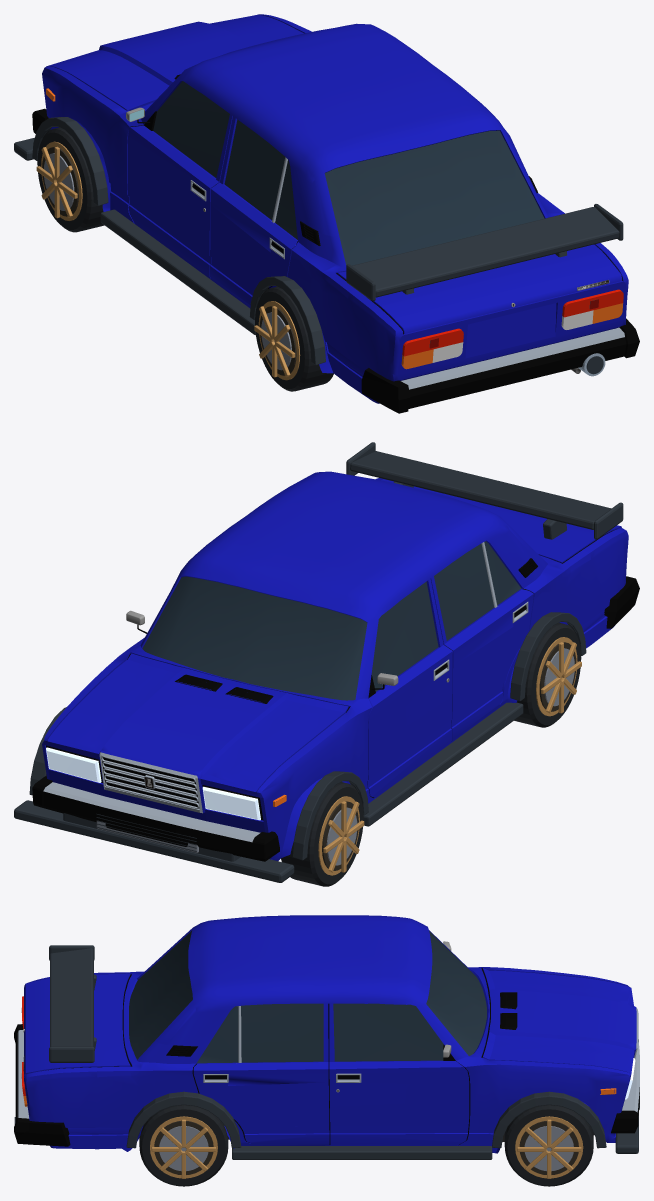
The model's file is vaz2107turbo.glb.
3 views of the same model, one above another, from view 1: azimuth 30°, elevation 25°; view 2: azimuth 150°, elevation 25°; view 3: azimuth 270°, elevation 25° (orthographic). The views are drawn at different scales.
Parts seen in each view (by area): view 1: Lada 2107 Turbo, rear_spoiler, Rim and tire.001, Rim and tire; view 2: Lada 2107 Turbo, rear_spoiler, Rim and tire, Rim and tire.001; view 3: Lada 2107 Turbo, Rim and tire.002, Rim and tire.003, rear_spoiler.
Part boxes in pixels (left/top/right/bottom): Lada 2107 Turbo: left=14, top=14, right=639, bottom=413; rear_spoiler: left=346, top=204, right=623, bottom=301; Rim and tire.001: left=254, top=286, right=333, bottom=391; Rim and tire: left=36, top=127, right=104, bottom=232; Lada 2107 Turbo: left=14, top=471, right=639, bottom=882; rear_spoiler: left=346, top=442, right=623, bottom=539; Rim and tire: left=281, top=782, right=364, bottom=886; Rim and tire.001: left=514, top=622, right=581, bottom=727; Lada 2107 Turbo: left=14, top=915, right=639, bottom=1159; Rim and tire.002: left=504, top=1105, right=593, bottom=1186; Rim and tire.003: left=139, top=1105, right=228, bottom=1186; rear_spoiler: left=49, top=945, right=96, bottom=1062.
Bounding box in the file's own units: 1.86 × 1.34 × 4.13.
Materials: 28 (2 with a texture image).
